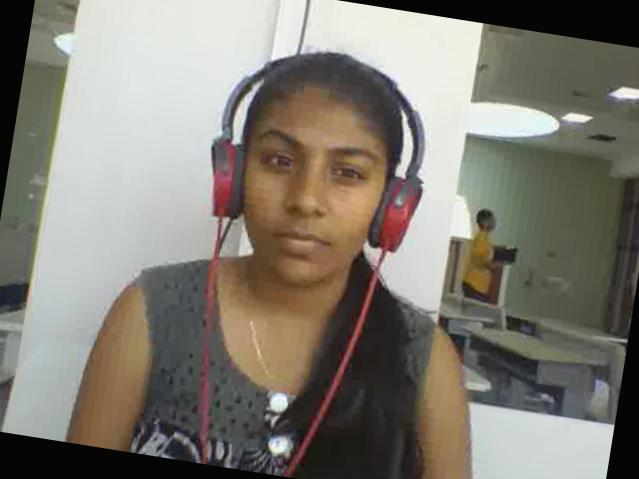bingung: (225, 78, 402, 294)
